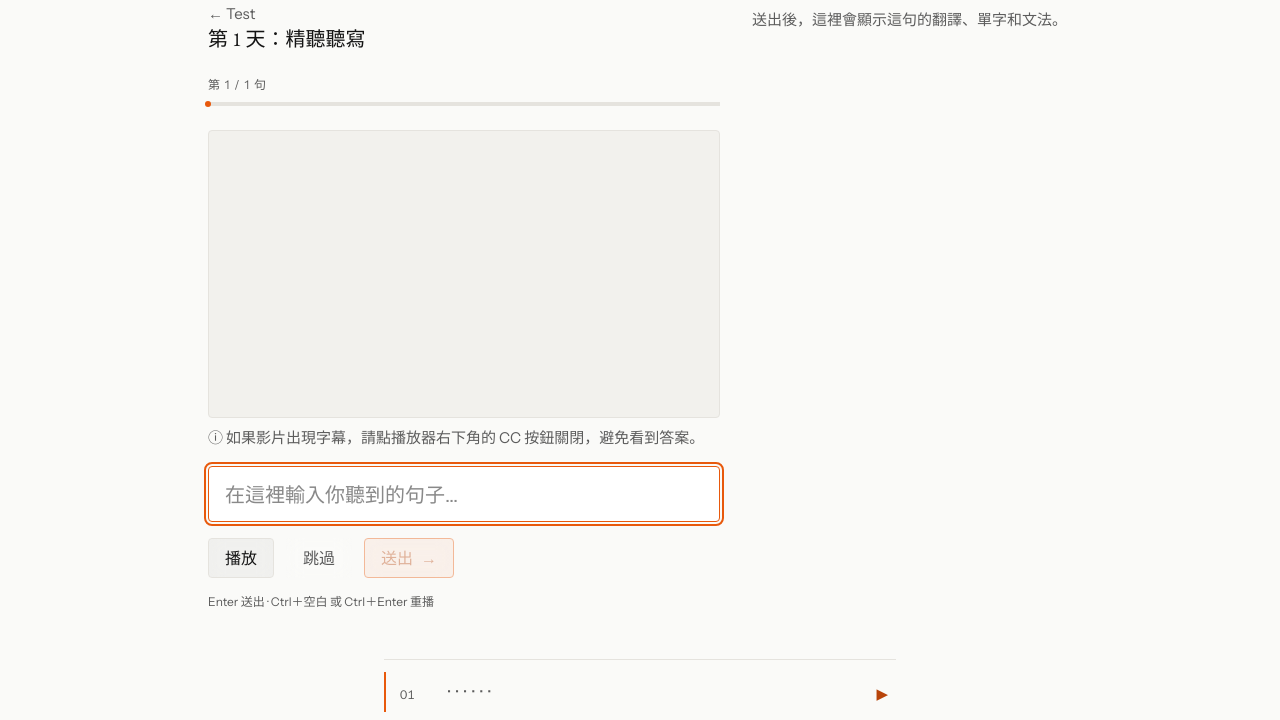
it: rewards from practice › finishing an official day earns points and feed, shown on the result
Step 1. Type "go home" into the text box labelled "你聽到的句子" → point(464, 494), box 208,466 -> 720,522
Then press Enter
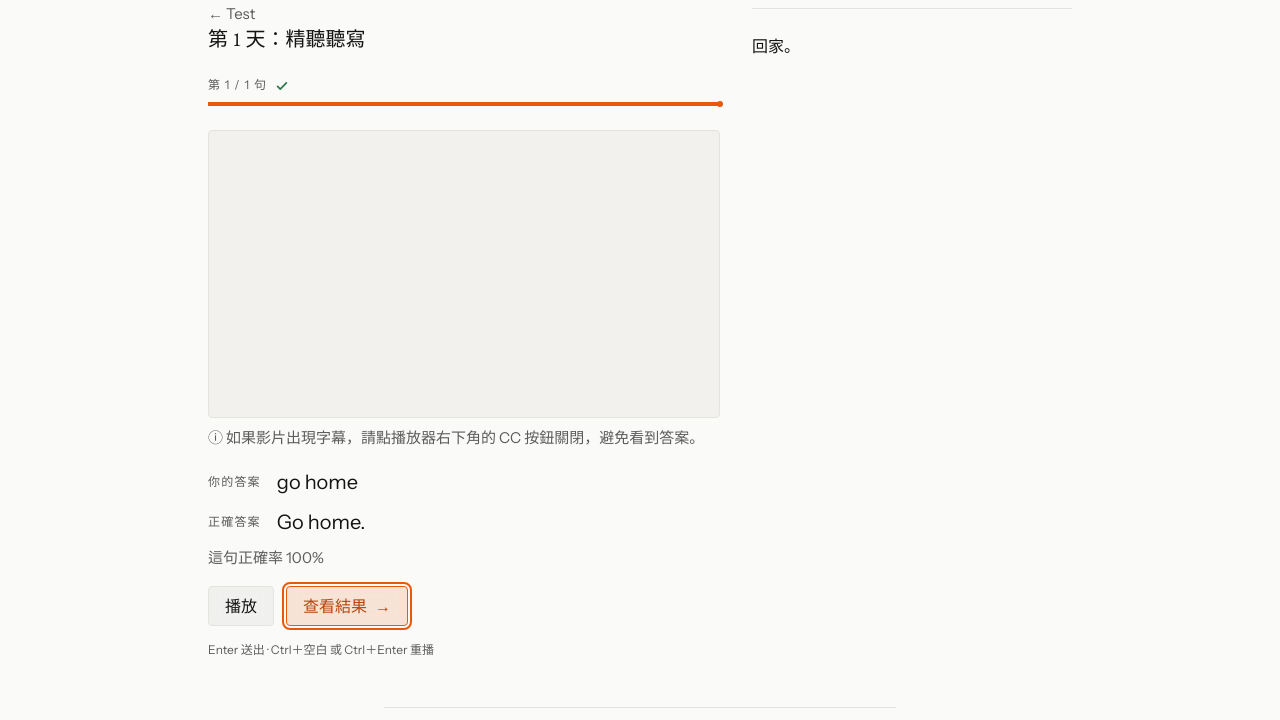
Step 2. Press Enter
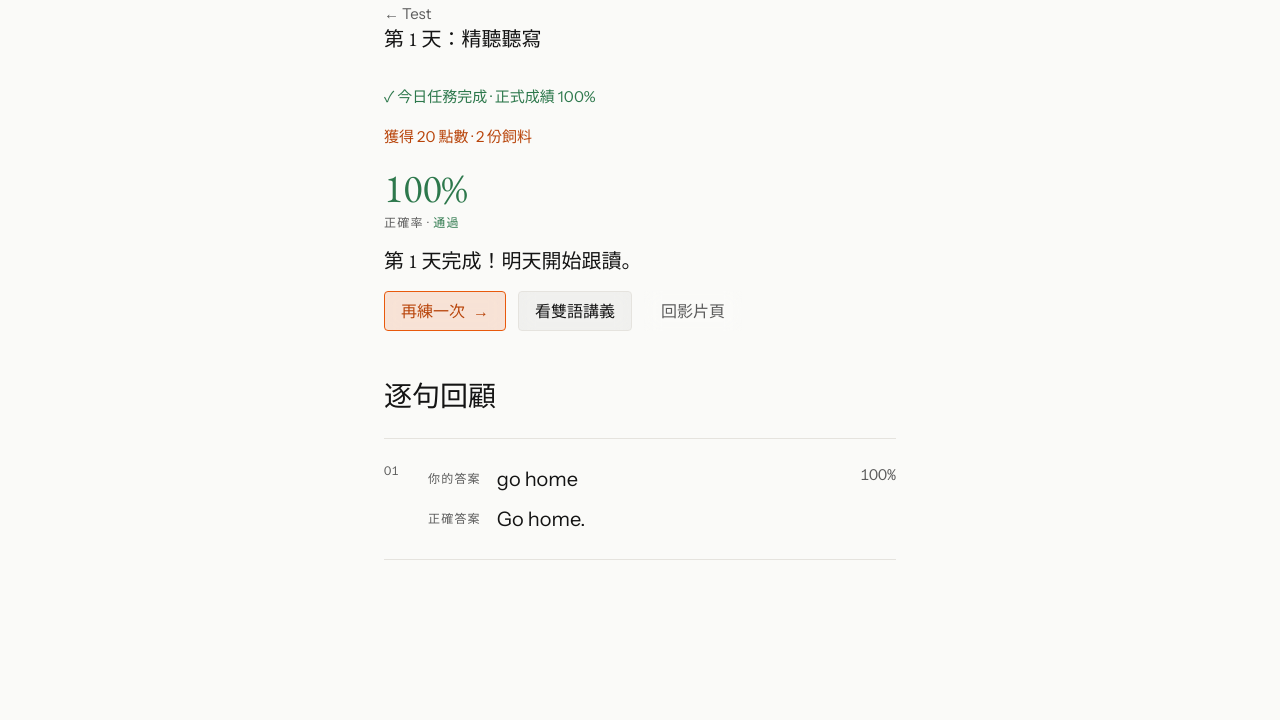
Now the text "獲得 20 點數 · 2 份飼料" is shown, box 384,127 -> 532,146
